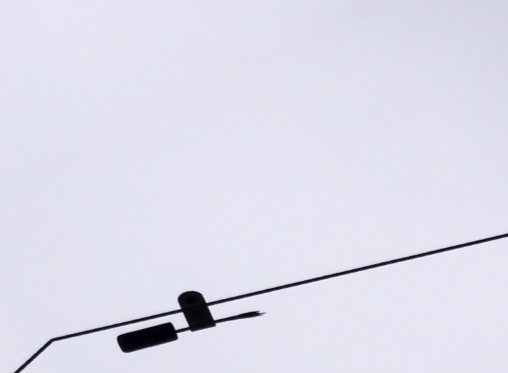damper_defect: (112, 287, 269, 356)
